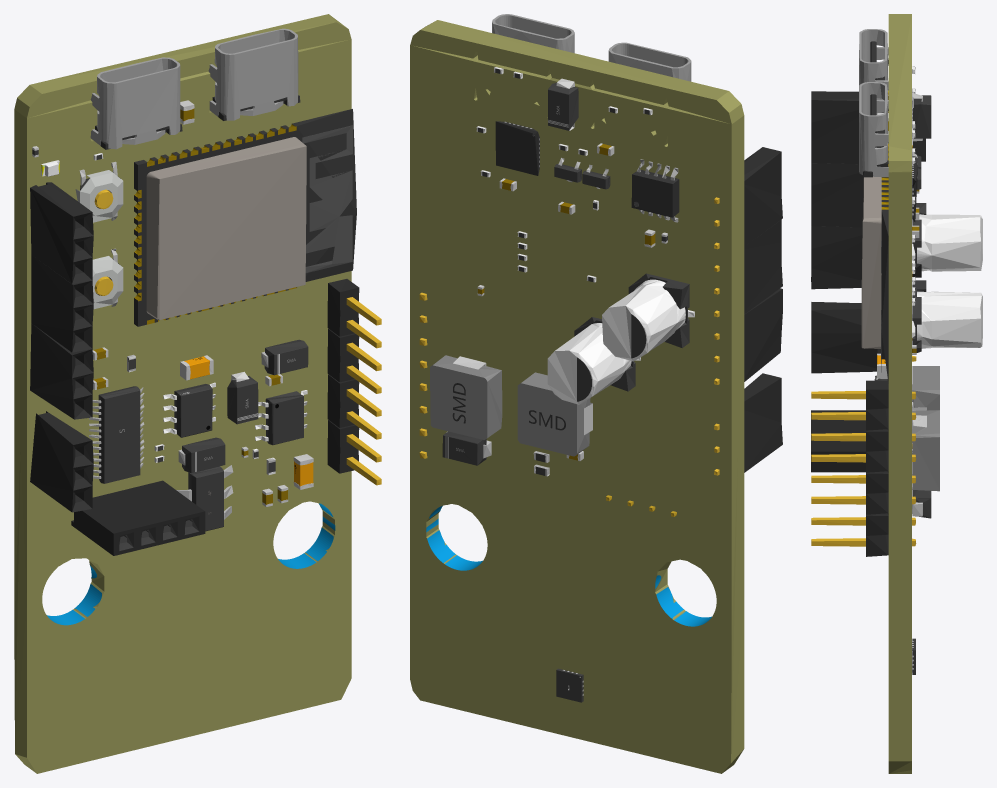
File: OBJ_PCB_SR1PCB_1.3.obj
3 views of the same model, side by side, from view 1: azimuth 30°, elevation 25°; view 2: azimuth 150°, elevation 25°; view 3: azimuth 270°, elevation 25° (orthographic). The views are drawn at different scales.
Visible parts, largest first — view 1: Object.29, Object.22, Object.20; view 2: Object.29, Object.22, Object.20; view 3: Object.29, Object.20, Object.22.
Boxes of the visible parts, x1,y1,x2,y2 form: Object.29: (14,14,381,773); Object.22: (90,57,182,149); Object.20: (208,28,300,120); Object.29: (410,20,782,773); Object.22: (608,42,691,81); Object.20: (492,14,574,53); Object.29: (811,14,982,773); Object.20: (859,82,888,177); Object.22: (859,29,888,114).
Size of the model in its own units: 149 by 301 by 73.97.
